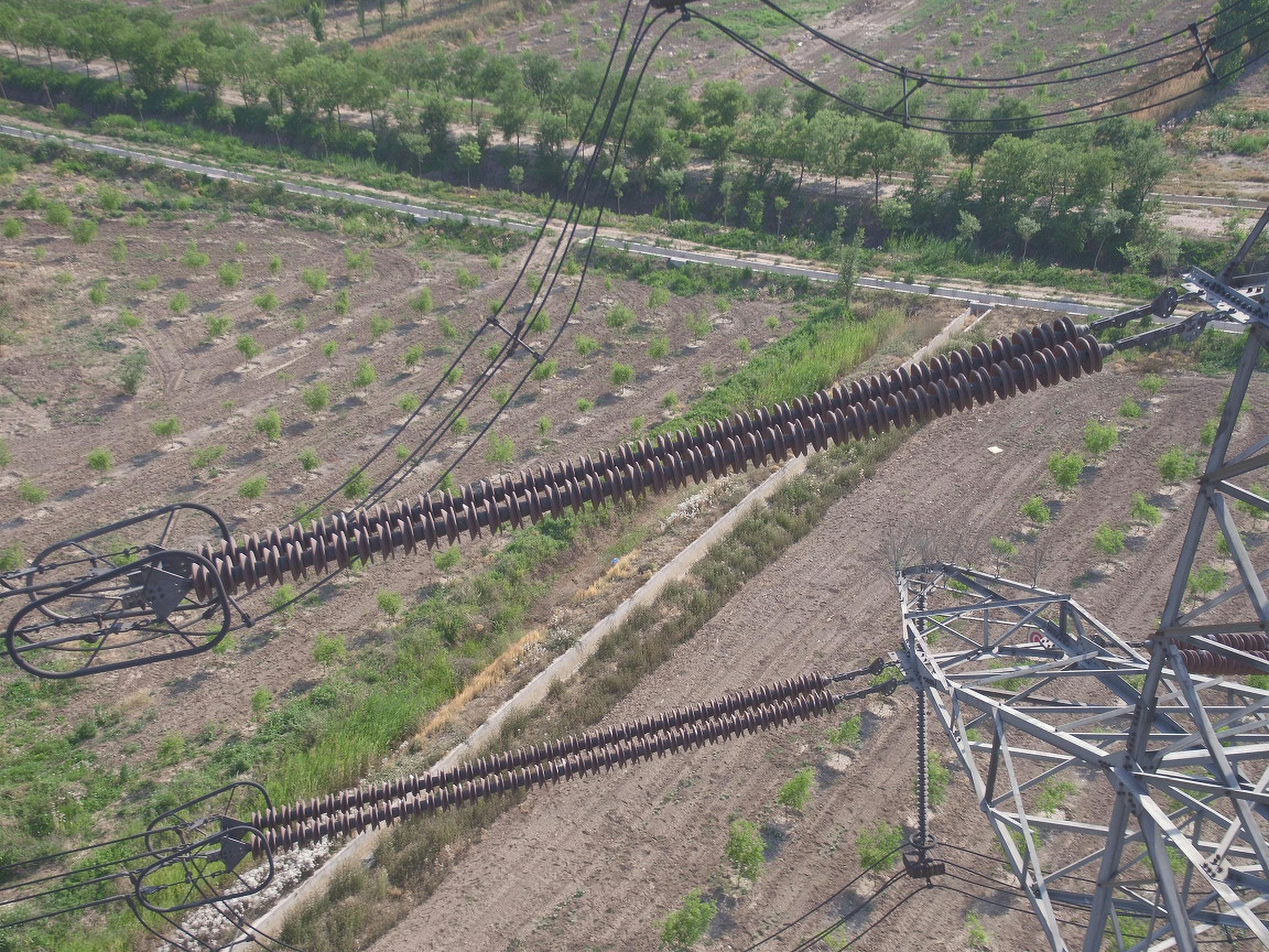insulator: (187, 314, 1106, 606), (246, 666, 839, 863), (1143, 628, 1269, 678), (913, 594, 933, 842)
